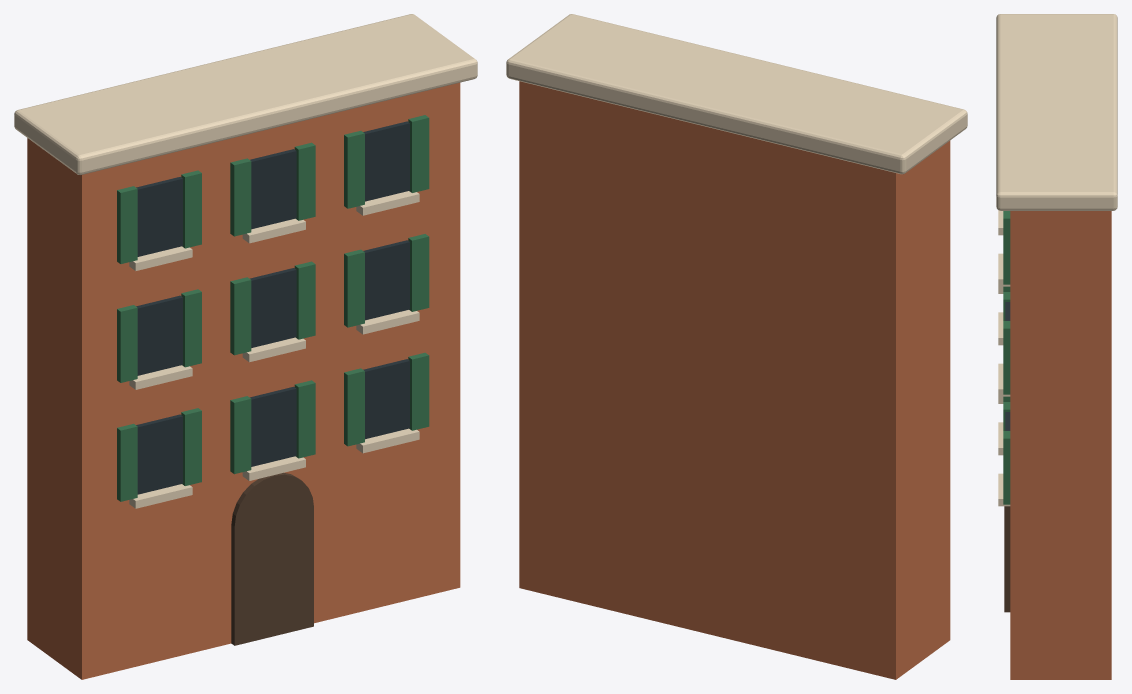
File: edificio_ladrillo.glb
3 views of the same model, side by side, from view 1: azimuth 30°, elevation 25°; view 2: azimuth 150°, elevation 25°; view 3: azimuth 270°, elevation 25° (orthographic). The views are drawn at different scales.
Visible parts, largest first — view 1: Cube, Cube.001, Cube.038, Cylinder, Cube.002, Cube.014, Cube.026, Cube.006, Cube.018, Cube.030, Cube.010, Cube.022 (+28 smaller); view 2: Cube, Cube.001; view 3: Cube, Cube.001, Cube.038, Cube.012, Cube.024, Cube.036, Cube.025, Cube.037, Cube.013.
Boxes of the visible parts, x1=… form: Cube: x1=27, y1=82, x2=460, y2=679; Cube.001: x1=14, y1=14, x2=477, y2=174; Cube.038: x1=231, y1=508, x2=313, y2=645; Cylinder: x1=231, y1=472, x2=313, y2=559; Cube.002: x1=136, y1=414, x2=182, y2=494; Cube.014: x1=136, y1=295, x2=182, y2=375; Cube.026: x1=136, y1=177, x2=182, y2=256; Cube.006: x1=250, y1=386, x2=296, y2=466; Cube.018: x1=250, y1=268, x2=296, y2=347; Cube.030: x1=250, y1=149, x2=296, y2=229; Cube.010: x1=363, y1=359, x2=409, y2=439; Cube.022: x1=363, y1=240, x2=409, y2=320; Cube: x1=519, y1=81, x2=950, y2=679; Cube.001: x1=506, y1=14, x2=967, y2=174; Cube: x1=1010, y1=211, x2=1111, y2=679; Cube.001: x1=996, y1=14, x2=1117, y2=210; Cube.038: x1=1004, y1=506, x2=1010, y2=612; Cube.012: x1=1003, y1=431, x2=1010, y2=504; Cube.024: x1=1003, y1=321, x2=1010, y2=394; Cube.036: x1=1003, y1=211, x2=1010, y2=284; Cube.025: x1=998, y1=363, x2=1010, y2=396; Cube.037: x1=998, y1=253, x2=1010, y2=286; Cube.013: x1=998, y1=473, x2=1010, y2=506.
Bounding box in the file's own units: 2.12 × 2.68 × 0.6.
